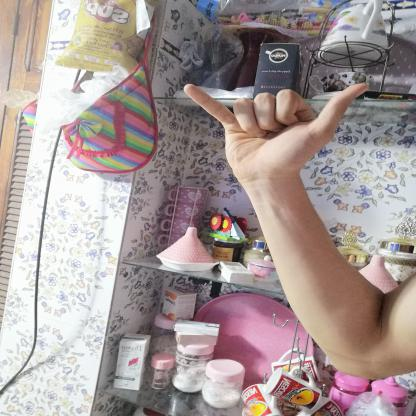YA: (168, 70, 381, 192)
